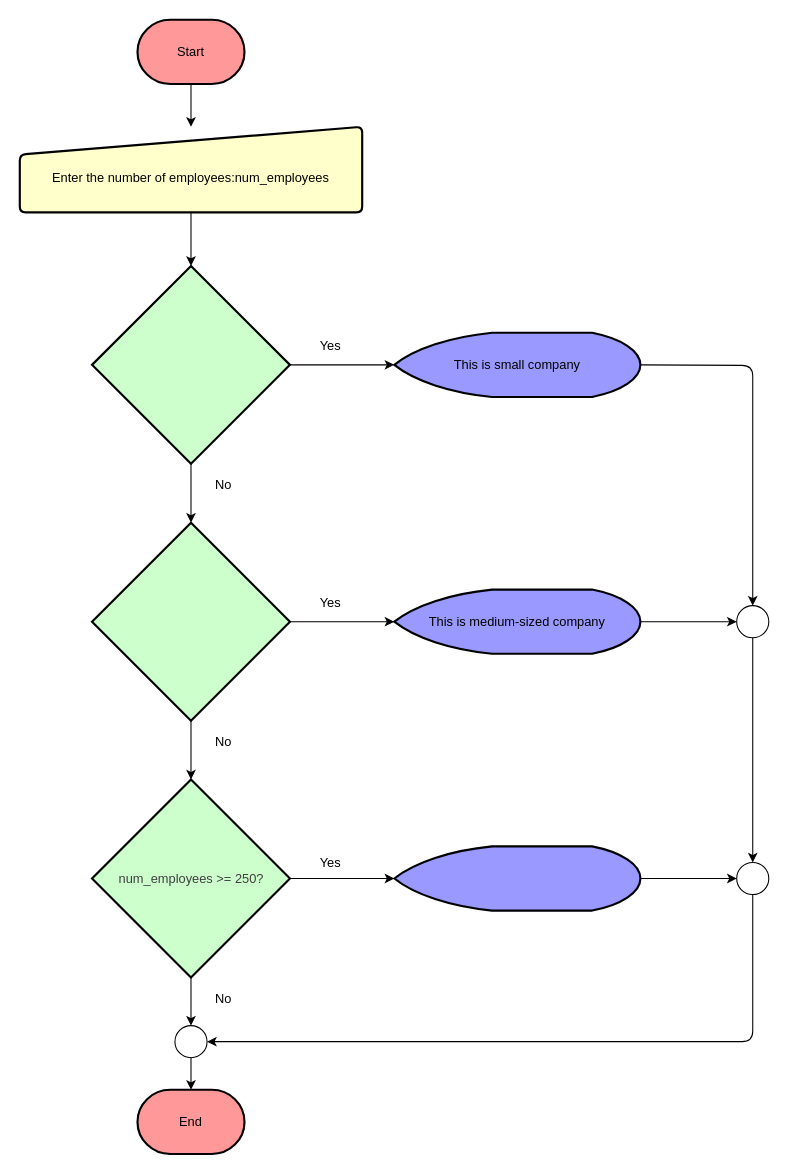
Some shapes in this 788 by 1173 pixel diagram are drawn without their labels. The centre of each missing label's shape, as x and y in pixels:
"num_employees < 250?" goes at pixel 190 621.
"num_employees < 50?" goes at pixel 190 364.
"This is large company" goes at pixel 517 878.
